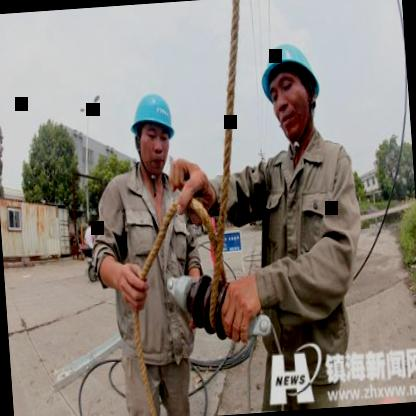helmet: (254, 25, 327, 145), (124, 84, 182, 178)
